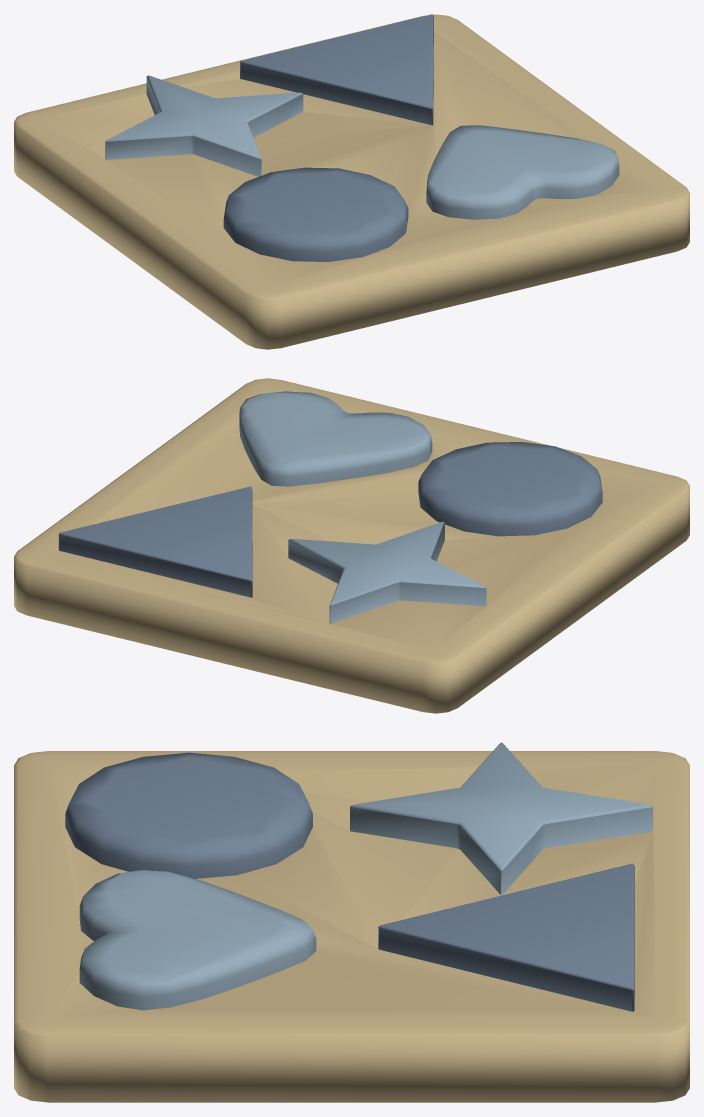
Rendered from JugueteFormas.fbx.
3 views of the same model, one above another, from view 1: azimuth 30°, elevation 25°; view 2: azimuth 150°, elevation 25°; view 3: azimuth 270°, elevation 25° (orthographic). The views are drawn at different scales.
Visible parts, largest first — view 1: Cube, Circle, Plane, Plane.001, Plane.002; view 2: Cube, Circle, Plane, Plane.001, Plane.002; view 3: Cube, Circle, Plane, Plane.001, Plane.002.
Part boxes in pixels (x1=…): Cube: x1=14, y1=14, x2=689, y2=349; Circle: x1=223, y1=167, x2=408, y2=261; Plane: x1=426, y1=125, x2=619, y2=219; Plane.001: x1=240, y1=14, x2=433, y2=125; Plane.002: x1=105, y1=75, x2=303, y2=176; Cube: x1=14, y1=378, x2=689, y2=713; Circle: x1=418, y1=442, x2=602, y2=536; Plane: x1=239, y1=391, x2=432, y2=486; Plane.001: x1=58, y1=486, x2=252, y2=597; Plane.002: x1=288, y1=521, x2=486, y2=623; Cube: x1=14, y1=751, x2=689, y2=1102; Circle: x1=65, y1=752, x2=312, y2=878; Plane: x1=79, y1=869, x2=316, y2=1010; Plane.001: x1=378, y1=863, x2=634, y2=1011; Plane.002: x1=350, y1=742, x2=652, y2=894.
Bounding box in the file's own units: 0.6095 × 0.6095 × 0.101.
